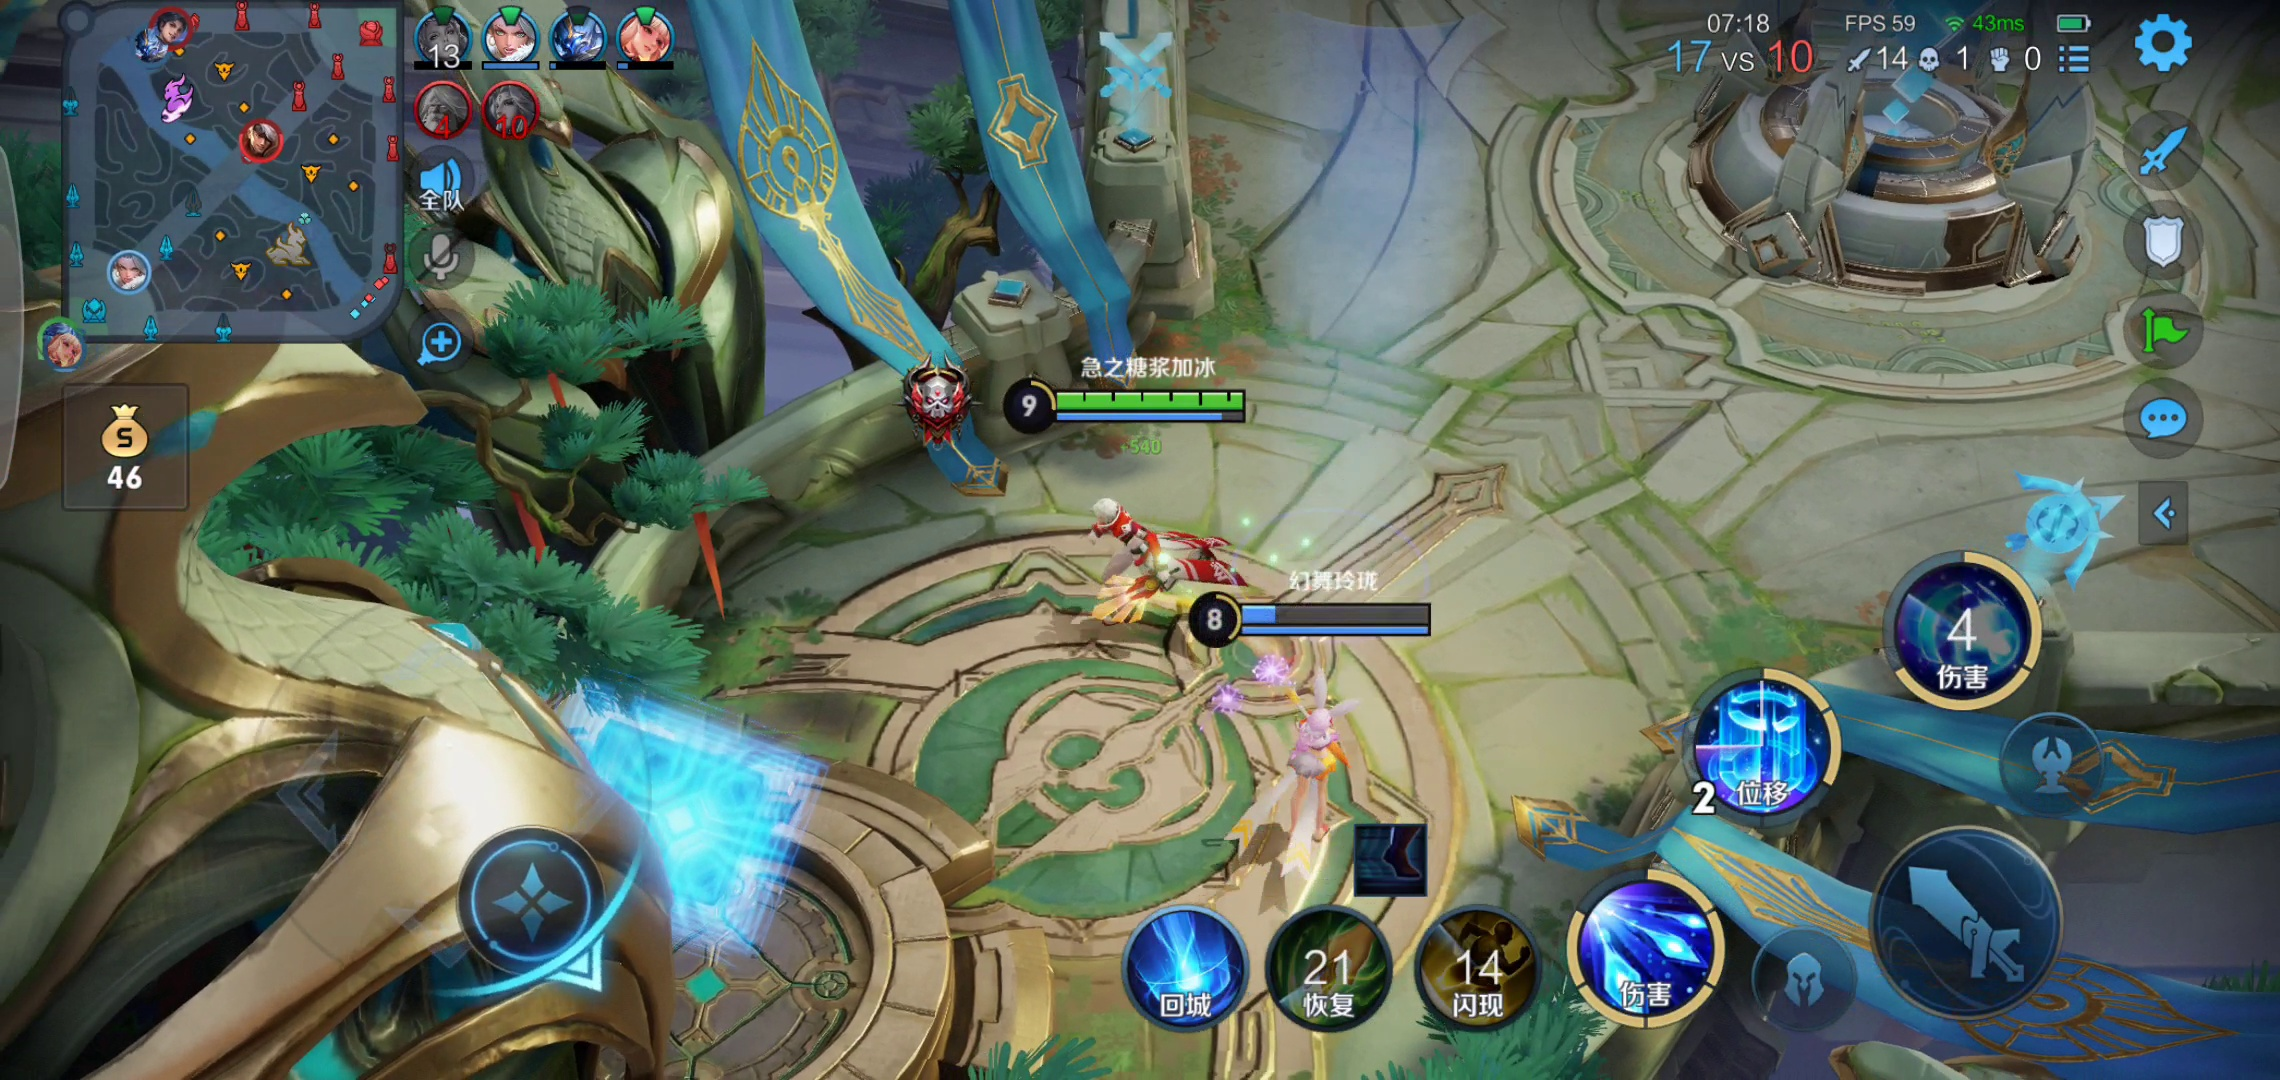crystal: (1652, 13, 2146, 304)
hero: (1216, 669, 1389, 842), (1063, 488, 1285, 616)
